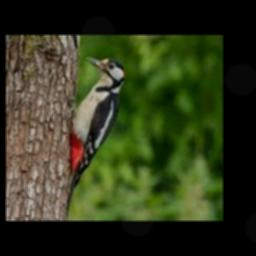Woodpecker: (66, 57, 125, 216)
